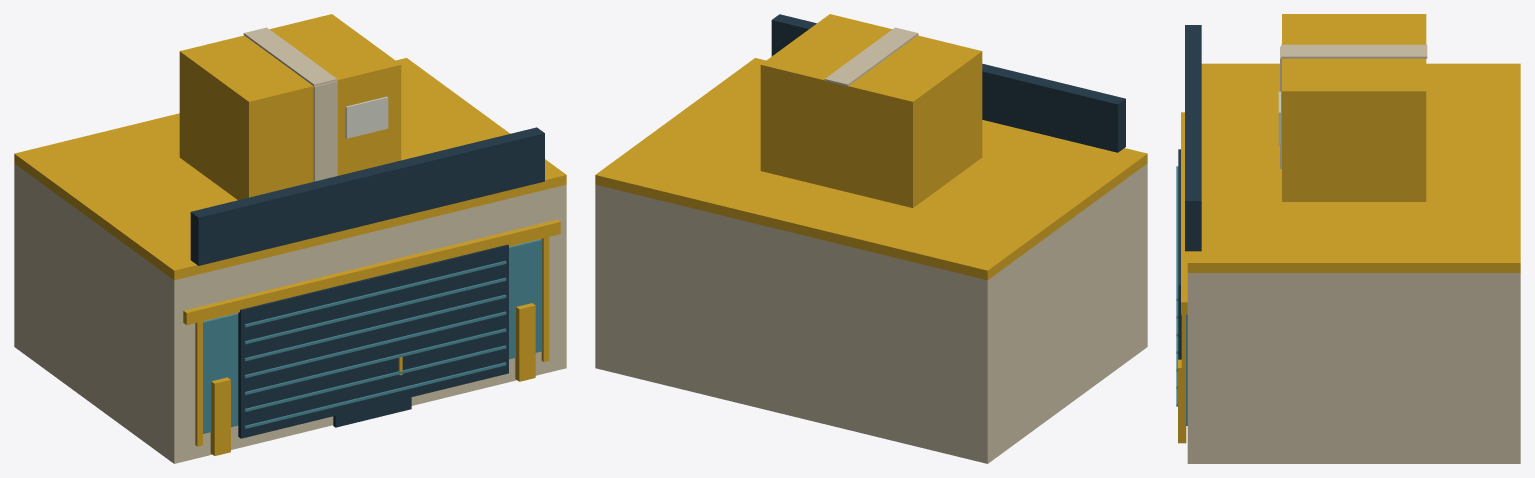
Rendered from depot.glb.
The picture shows the model from 3 angles, left to right: view 1: azimuth 30°, elevation 25°; view 2: azimuth 150°, elevation 25°; view 3: azimuth 270°, elevation 25°; orthographic projection. The views are drawn at different scales.
Visible parts, largest first — view 1: depot; view 2: depot; view 3: depot.
Part boxes in pixels (box(x1,y1,x2,y2)): depot: box(14, 14, 566, 463); depot: box(595, 14, 1147, 463); depot: box(1176, 14, 1520, 463).
Bounding box in the file's own units: 8.5 × 6.24 × 6.2.
